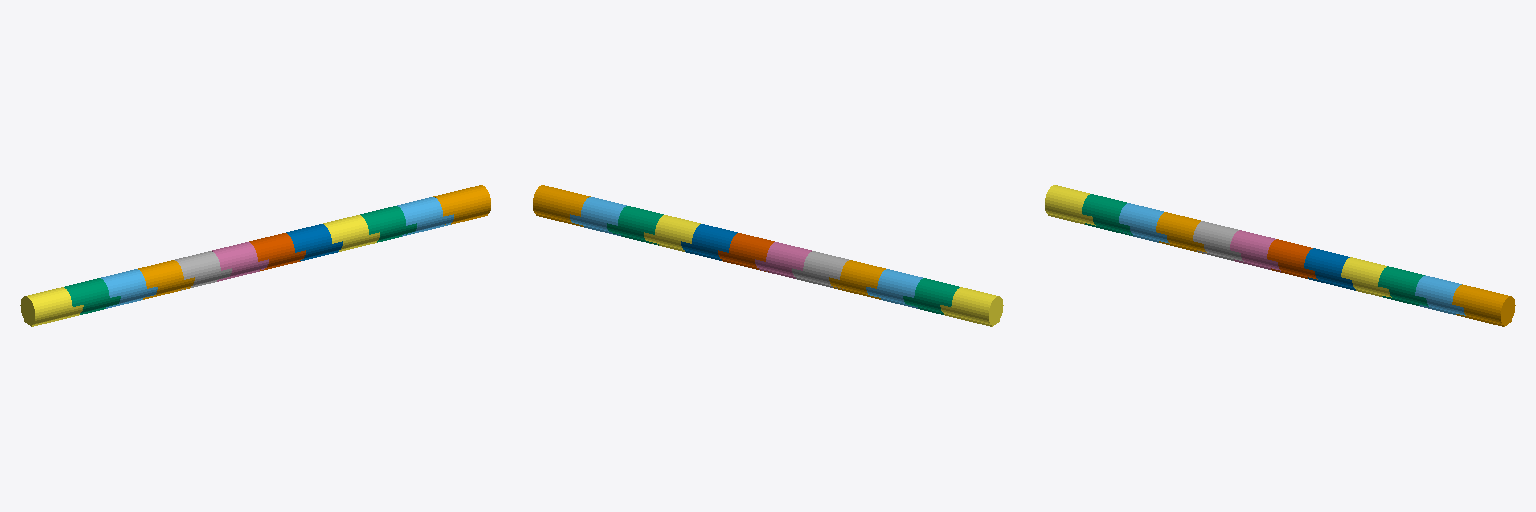
URDF robot description (kiro_robot):
<?xml version="1.0" ?>
<robot name="kiro_robot">
  <joint name="kiro_robot__joint1" type="revolute">
    <parent link="kiro_robot__head"/>
    <child link="kiro_robot__body1"/>
    <origin rpy="0   -1.57  0" xyz="-0.05     0       0.03496"/>
    <axis xyz="0  1  0"/>
    <limit effort="0.0" lower="-1.22173" upper="1.22173" velocity="8.16814"/>
  </joint>
  <joint name="kiro_robot__joint2" type="revolute">
    <parent link="kiro_robot__body1"/>
    <child link="kiro_robot__body2"/>
    <origin rpy="0  0  0" xyz="-8.00000000e-05   0.00000000e+00   1.00000000e-01"/>
    <axis xyz="1.00000000e+00   0.00000000e+00   7.90000000e-04"/>
    <limit effort="0.0" lower="-1.22173" upper="1.22173" velocity="8.16814"/>
  </joint>
  <joint name="kiro_robot__joint3" type="revolute">
    <parent link="kiro_robot__body2"/>
    <child link="kiro_robot__body3"/>
    <origin rpy="0  0  0" xyz="-8.00000000e-05   0.00000000e+00   1.00000000e-01"/>
    <axis xyz="0  1  0"/>
    <limit effort="0.0" lower="-1.22173" upper="1.22173" velocity="8.16814"/>
  </joint>
  <joint name="kiro_robot__joint4" type="revolute">
    <parent link="kiro_robot__body3"/>
    <child link="kiro_robot__body4"/>
    <origin rpy="0  0  0" xyz="-8.00000000e-05   0.00000000e+00   1.00000000e-01"/>
    <axis xyz="1.00000000e+00   0.00000000e+00   7.90000000e-04"/>
    <limit effort="0.0" lower="-1.22173" upper="1.22173" velocity="8.16814"/>
  </joint>
  <joint name="kiro_robot__joint5" type="revolute">
    <parent link="kiro_robot__body4"/>
    <child link="kiro_robot__body5"/>
    <origin rpy="0  0  0" xyz="-8.00000000e-05   0.00000000e+00   1.00000000e-01"/>
    <axis xyz="0  1  0"/>
    <limit effort="0.0" lower="-1.22173" upper="1.22173" velocity="8.16814"/>
  </joint>
  <joint name="kiro_robot__joint6" type="revolute">
    <parent link="kiro_robot__body5"/>
    <child link="kiro_robot__body6"/>
    <origin rpy="0  0  0" xyz="-8.00000000e-05   0.00000000e+00   1.00000000e-01"/>
    <axis xyz="1.00000000e+00   0.00000000e+00   7.90000000e-04"/>
    <limit effort="0.0" lower="-1.22173" upper="1.22173" velocity="8.16814"/>
  </joint>
  <joint name="kiro_robot__joint7" type="revolute">
    <parent link="kiro_robot__body6"/>
    <child link="kiro_robot__body7"/>
    <origin rpy="0  0  0" xyz="-8.00000000e-05   0.00000000e+00   1.00000000e-01"/>
    <axis xyz="0  1  0"/>
    <limit effort="0.0" lower="-1.22173" upper="1.22173" velocity="8.16814"/>
  </joint>
  <joint name="kiro_robot__joint8" type="revolute">
    <parent link="kiro_robot__body7"/>
    <child link="kiro_robot__body8"/>
    <origin rpy="0  0  0" xyz="-8.00000000e-05   0.00000000e+00   1.00000000e-01"/>
    <axis xyz="1.00000000e+00   0.00000000e+00   7.90000000e-04"/>
    <limit effort="0.0" lower="-1.22173" upper="1.22173" velocity="8.16814"/>
  </joint>
  <joint name="kiro_robot__joint9" type="revolute">
    <parent link="kiro_robot__body8"/>
    <child link="kiro_robot__body9"/>
    <origin rpy="0  0  0" xyz="-8.00000000e-05   0.00000000e+00   1.00000000e-01"/>
    <axis xyz="0  1  0"/>
    <limit effort="0.0" lower="-1.22173" upper="1.22173" velocity="8.16814"/>
  </joint>
  <joint name="kiro_robot__joint10" type="revolute">
    <parent link="kiro_robot__body9"/>
    <child link="kiro_robot__body10"/>
    <origin rpy="0  0  0" xyz="-8.00000000e-05   0.00000000e+00   1.00000000e-01"/>
    <axis xyz="0  1  0"/>
    <limit effort="0.0" lower="-1.22173" upper="1.22173" velocity="8.16814"/>
  </joint>
  <joint name="kiro_robot__joint11" type="revolute">
    <parent link="kiro_robot__body10"/>
    <child link="kiro_robot__tail"/>
    <origin rpy="0  0  0" xyz="-8.00000000e-05   0.00000000e+00   1.00000000e-01"/>
    <axis xyz="0  1  0"/>
    <limit effort="0.0" lower="-1.22173" upper="1.22173" velocity="8.16814"/>
  </joint>
  <link name="kiro_robot__head">
    <inertial>
      <mass value="0"/>
      <origin rpy="0  0  0" xyz="0  0  0"/>
      <inertia ixx="0" ixy="0" ixz="0" iyy="0" iyz="0" izz="0"/>
    </inertial>
    <collision name="kiro_robot__head_collision">
      <origin rpy="0   -1.57  0" xyz="0.025    0       0.03497"/>
      <geometry>
        <cylinder length=".08" radius=".035"/>
      </geometry>
    </collision>
    <collision name="kiro_robot__head_pad_collision">
      <origin rpy="0   -1.57  0" xyz="0.02498  0       0.00997"/>
      <geometry>
        <box size="0.02 0.035 0.08"/>
      </geometry>
    </collision>
    <visual name="kiro_robot__head_visual">
      <origin rpy="0   -1.57  0" xyz="0     0     0.035"/>
      <geometry>
        <cylinder length=".13" radius=".035"/>
      </geometry>
    </visual>
    <visual name="kiro_robot__head_pad_visual">
      <origin rpy="0   -1.57  0" xyz="-2.00000000e-05   0.00000000e+00   1.00000000e-02"/>
      <geometry>
        <box size="0.02 0.035 0.13"/>
      </geometry>
    </visual>
  </link>
  <link name="kiro_robot__body1">
    <inertial>
      <mass value="0"/>
      <origin rpy="0  0  0" xyz="0  0  0"/>
      <inertia ixx="0" ixy="0" ixz="0" iyy="0" iyz="0" izz="0"/>
    </inertial>
    <collision name="kiro_robot__body1_collision">
      <origin rpy="0  0  0" xyz="0     0     0.025"/>
      <geometry>
        <cylinder length=".08" radius=".035"/>
      </geometry>
    </collision>
    <collision name="kiro_robot__body1_pad_collision">
      <origin rpy="0  0  0" xyz="-0.025  0     0.025"/>
      <geometry>
        <box size="0.02 0.035 0.08"/>
      </geometry>
    </collision>
    <visual name="kiro_robot__body1_visual">
      <origin rpy="0  0  0" xyz="0    0    0.05"/>
      <geometry>
        <cylinder length=".13" radius=".035"/>
      </geometry>
    </visual>
    <visual name="kiro_robot__body1_pad_visual">
      <origin rpy="0  0  0" xyz="-0.025  0     0.05"/>
      <geometry>
        <box size="0.02 0.035 0.13"/>
      </geometry>
    </visual>
  </link>
  <link name="kiro_robot__body2">
    <inertial>
      <mass value="0"/>
      <origin rpy="0  0  0" xyz="0  0  0"/>
      <inertia ixx="0" ixy="0" ixz="0" iyy="0" iyz="0" izz="0"/>
    </inertial>
    <collision name="kiro_robot__body2_collision">
      <origin rpy="0  0  0" xyz="0     0     0.025"/>
      <geometry>
        <cylinder length=".08" radius=".035"/>
      </geometry>
    </collision>
    <collision name="kiro_robot__body2_pad_collision">
      <origin rpy="0  0  0" xyz="-0.025  0     0.025"/>
      <geometry>
        <box size="0.02 0.035 0.08"/>
      </geometry>
    </collision>
    <visual name="kiro_robot__body2_visual">
      <origin rpy="0  0  0" xyz="0    0    0.05"/>
      <geometry>
        <cylinder length=".13" radius=".035"/>
      </geometry>
    </visual>
    <visual name="kiro_robot__body2_pad_visual">
      <origin rpy="0  0  0" xyz="-0.025  0     0.05"/>
      <geometry>
        <box size="0.02 0.035 0.13"/>
      </geometry>
    </visual>
  </link>
  <link name="kiro_robot__body3">
    <inertial>
      <mass value="0"/>
      <origin rpy="0  0  0" xyz="0  0  0"/>
      <inertia ixx="0" ixy="0" ixz="0" iyy="0" iyz="0" izz="0"/>
    </inertial>
    <collision name="kiro_robot__body3_collision">
      <origin rpy="0  0  0" xyz="0     0     0.025"/>
      <geometry>
        <cylinder length=".08" radius=".035"/>
      </geometry>
    </collision>
    <collision name="kiro_robot__body3_pad_collision">
      <origin rpy="0  0  0" xyz="-0.025  0     0.025"/>
      <geometry>
        <box size="0.02 0.035 0.08"/>
      </geometry>
    </collision>
    <visual name="kiro_robot__body3_visual">
      <origin rpy="0  0  0" xyz="0    0    0.05"/>
      <geometry>
        <cylinder length=".13" radius=".035"/>
      </geometry>
    </visual>
    <visual name="kiro_robot__body3_pad_visual">
      <origin rpy="0  0  0" xyz="-0.025  0     0.05"/>
      <geometry>
        <box size="0.02 0.035 0.13"/>
      </geometry>
    </visual>
  </link>
  <link name="kiro_robot__body4">
    <inertial>
      <mass value="0"/>
      <origin rpy="0  0  0" xyz="0  0  0"/>
      <inertia ixx="0" ixy="0" ixz="0" iyy="0" iyz="0" izz="0"/>
    </inertial>
    <collision name="kiro_robot__body4_collision">
      <origin rpy="0  0  0" xyz="0     0     0.025"/>
      <geometry>
        <cylinder length=".08" radius=".035"/>
      </geometry>
    </collision>
    <collision name="kiro_robot__body4_pad_collision">
      <origin rpy="0  0  0" xyz="-0.025  0     0.025"/>
      <geometry>
        <box size="0.02 0.035 0.08"/>
      </geometry>
    </collision>
    <visual name="kiro_robot__body4_visual">
      <origin rpy="0  0  0" xyz="0    0    0.05"/>
      <geometry>
        <cylinder length=".13" radius=".035"/>
      </geometry>
    </visual>
    <visual name="kiro_robot__body4_pad_visual">
      <origin rpy="0  0  0" xyz="-0.025  0     0.05"/>
      <geometry>
        <box size="0.02 0.035 0.13"/>
      </geometry>
    </visual>
  </link>
  <link name="kiro_robot__body5">
    <inertial>
      <mass value="0"/>
      <origin rpy="0  0  0" xyz="0  0  0"/>
      <inertia ixx="0" ixy="0" ixz="0" iyy="0" iyz="0" izz="0"/>
    </inertial>
    <collision name="kiro_robot__body5_collision">
      <origin rpy="0  0  0" xyz="0     0     0.025"/>
      <geometry>
        <cylinder length=".08" radius=".035"/>
      </geometry>
    </collision>
    <collision name="kiro_robot__body5_pad_collision">
      <origin rpy="0  0  0" xyz="-0.025  0     0.025"/>
      <geometry>
        <box size="0.02 0.035 0.08"/>
      </geometry>
    </collision>
    <visual name="kiro_robot__body5_visual">
      <origin rpy="0  0  0" xyz="0    0    0.05"/>
      <geometry>
        <cylinder length=".13" radius=".035"/>
      </geometry>
    </visual>
    <visual name="kiro_robot__body5_pad_visual">
      <origin rpy="0  0  0" xyz="-0.025  0     0.05"/>
      <geometry>
        <box size="0.02 0.035 0.13"/>
      </geometry>
    </visual>
  </link>
  <link name="kiro_robot__body6">
    <inertial>
      <mass value="0"/>
      <origin rpy="0  0  0" xyz="0  0  0"/>
      <inertia ixx="0" ixy="0" ixz="0" iyy="0" iyz="0" izz="0"/>
    </inertial>
    <collision name="kiro_robot__body6_collision">
      <origin rpy="0  0  0" xyz="0     0     0.025"/>
      <geometry>
        <cylinder length=".08" radius=".035"/>
      </geometry>
    </collision>
    <collision name="kiro_robot__body6_pad_collision">
      <origin rpy="0  0  0" xyz="-0.025  0     0.025"/>
      <geometry>
        <box size="0.02 0.035 0.08"/>
      </geometry>
    </collision>
    <visual name="kiro_robot__body6_visual">
      <origin rpy="0  0  0" xyz="0    0    0.05"/>
      <geometry>
        <cylinder length=".13" radius=".035"/>
      </geometry>
    </visual>
    <visual name="kiro_robot__body6_pad_visual">
      <origin rpy="0  0  0" xyz="-0.025  0     0.05"/>
      <geometry>
        <box size="0.02 0.035 0.13"/>
      </geometry>
    </visual>
  </link>
  <link name="kiro_robot__body7">
    <inertial>
      <mass value="0"/>
      <origin rpy="0  0  0" xyz="0  0  0"/>
      <inertia ixx="0" ixy="0" ixz="0" iyy="0" iyz="0" izz="0"/>
    </inertial>
    <collision name="kiro_robot__body7_collision">
      <origin rpy="0  0  0" xyz="0     0     0.025"/>
      <geometry>
        <cylinder length=".08" radius=".035"/>
      </geometry>
    </collision>
    <collision name="kiro_robot__body7_pad_collision">
      <origin rpy="0  0  0" xyz="-0.025  0     0.025"/>
      <geometry>
        <box size="0.02 0.035 0.08"/>
      </geometry>
    </collision>
    <visual name="kiro_robot__body7_visual">
      <origin rpy="0  0  0" xyz="0    0    0.05"/>
      <geometry>
        <cylinder length=".13" radius=".035"/>
      </geometry>
    </visual>
    <visual name="kiro_robot__body7_pad_visual">
      <origin rpy="0  0  0" xyz="-0.025  0     0.05"/>
      <geometry>
        <box size="0.02 0.035 0.13"/>
      </geometry>
    </visual>
  </link>
  <link name="kiro_robot__body8">
    <inertial>
      <mass value="0"/>
      <origin rpy="0  0  0" xyz="0  0  0"/>
      <inertia ixx="0" ixy="0" ixz="0" iyy="0" iyz="0" izz="0"/>
    </inertial>
    <collision name="kiro_robot__body8_collision">
      <origin rpy="0  0  0" xyz="0     0     0.025"/>
      <geometry>
        <cylinder length=".08" radius=".035"/>
      </geometry>
    </collision>
    <collision name="kiro_robot__body8_pad_collision">
      <origin rpy="0  0  0" xyz="-0.025  0     0.025"/>
      <geometry>
        <box size="0.02 0.035 0.08"/>
      </geometry>
    </collision>
    <visual name="kiro_robot__body8_visual">
      <origin rpy="0  0  0" xyz="0    0    0.05"/>
      <geometry>
        <cylinder length=".13" radius=".035"/>
      </geometry>
    </visual>
    <visual name="kiro_robot__body8_pad_visual">
      <origin rpy="0  0  0" xyz="-0.025  0     0.05"/>
      <geometry>
        <box size="0.02 0.035 0.13"/>
      </geometry>
    </visual>
  </link>
  <link name="kiro_robot__body9">
    <inertial>
      <mass value="0"/>
      <origin rpy="0  0  0" xyz="0  0  0"/>
      <inertia ixx="0" ixy="0" ixz="0" iyy="0" iyz="0" izz="0"/>
    </inertial>
    <collision name="kiro_robot__body9_collision">
      <origin rpy="0  0  0" xyz="0     0     0.025"/>
      <geometry>
        <cylinder length=".08" radius=".035"/>
      </geometry>
    </collision>
    <collision name="kiro_robot__body9_pad_collision">
      <origin rpy="0  0  0" xyz="-0.025  0     0.025"/>
      <geometry>
        <box size="0.02 0.035 0.08"/>
      </geometry>
    </collision>
    <visual name="kiro_robot__body9_visual">
      <origin rpy="0  0  0" xyz="0    0    0.05"/>
      <geometry>
        <cylinder length=".13" radius=".035"/>
      </geometry>
    </visual>
    <visual name="kiro_robot__body9_pad_visual">
      <origin rpy="0  0  0" xyz="-0.025  0     0.05"/>
      <geometry>
        <box size="0.02 0.035 0.13"/>
      </geometry>
    </visual>
  </link>
  <link name="kiro_robot__body10">
    <inertial>
      <mass value="0"/>
      <origin rpy="0  0  0" xyz="0  0  0"/>
      <inertia ixx="0" ixy="0" ixz="0" iyy="0" iyz="0" izz="0"/>
    </inertial>
    <collision name="kiro_robot__body10_collision">
      <origin rpy="0  0  0" xyz="0     0     0.025"/>
      <geometry>
        <cylinder length=".08" radius=".035"/>
      </geometry>
    </collision>
    <collision name="kiro_robot__body10_pad_collision">
      <origin rpy="0  0  0" xyz="-0.025  0     0.025"/>
      <geometry>
        <box size="0.02 0.035 0.08"/>
      </geometry>
    </collision>
    <visual name="kiro_robot__body10_visual">
      <origin rpy="0  0  0" xyz="0    0    0.05"/>
      <geometry>
        <cylinder length=".13" radius=".035"/>
      </geometry>
    </visual>
    <visual name="kiro_robot__body10_pad_visual">
      <origin rpy="0  0  0" xyz="-0.025  0     0.05"/>
      <geometry>
        <box size="0.02 0.035 0.13"/>
      </geometry>
    </visual>
  </link>
  <link name="kiro_robot__tail">
    <inertial>
      <mass value="0"/>
      <origin rpy="0  0  0" xyz="0  0  0"/>
      <inertia ixx="0" ixy="0" ixz="0" iyy="0" iyz="0" izz="0"/>
    </inertial>
    <collision name="kiro_robot__tail_collision">
      <origin rpy="0  0  0" xyz="0    0    0.05"/>
      <geometry>
        <cylinder length=".13" radius=".035"/>
      </geometry>
    </collision>
    <collision name="kiro_robot__tail_pad_collision">
      <origin rpy="0  0  0" xyz="-0.025  0     0.05"/>
      <geometry>
        <box size="0.02 0.035 0.13"/>
      </geometry>
    </collision>
    <visual name="kiro_robot__tail_visual">
      <origin rpy="0  0  0" xyz="0    0    0.05"/>
      <geometry>
        <cylinder length=".13" radius=".035"/>
      </geometry>
    </visual>
    <visual name="kiro_robot__tail_pad_visual">
      <origin rpy="0  0  0" xyz="-0.025  0     0.05"/>
      <geometry>
        <box size="0.02 0.035 0.13"/>
      </geometry>
    </visual>
  </link>
</robot>

--- Facts derived from the render (not from the file) ---
Views: 3 orthographic renders of the robot side by side, from view 1: azimuth 30°, elevation 25°; view 2: azimuth 150°, elevation 25°; view 3: azimuth 330°, elevation 25°.
Robot: kiro_robot — 12 links, 11 joints (11 revolute); root link kiro_robot__head; default pose: every joint at zero.
Links seen in each view (by area): view 1: kiro_robot__tail, kiro_robot__head, kiro_robot__body6, kiro_robot__body8, kiro_robot__body1, kiro_robot__body3, kiro_robot__body4, kiro_robot__body5, kiro_robot__body9, kiro_robot__body10, kiro_robot__body2, kiro_robot__body7; view 2: kiro_robot__tail, kiro_robot__head, kiro_robot__body8, kiro_robot__body2, kiro_robot__body7, kiro_robot__body5, kiro_robot__body4, kiro_robot__body9, kiro_robot__body6, kiro_robot__body1, kiro_robot__body10, kiro_robot__body3; view 3: kiro_robot__head, kiro_robot__tail, kiro_robot__body4, kiro_robot__body10, kiro_robot__body2, kiro_robot__body6, kiro_robot__body8, kiro_robot__body1, kiro_robot__body7, kiro_robot__body5, kiro_robot__body9, kiro_robot__body3.
Boxes of the visible links, <box> form: kiro_robot__tail: <box>20,287,83,326</box>; kiro_robot__head: <box>433,185,490,224</box>; kiro_robot__body6: <box>212,242,268,281</box>; kiro_robot__body8: <box>138,260,194,299</box>; kiro_robot__body1: <box>397,197,453,236</box>; kiro_robot__body3: <box>323,215,379,251</box>; kiro_robot__body4: <box>286,224,342,260</box>; kiro_robot__body5: <box>249,233,305,270</box>; kiro_robot__body9: <box>101,269,157,308</box>; kiro_robot__body10: <box>64,278,120,314</box>; kiro_robot__body2: <box>360,206,416,242</box>; kiro_robot__body7: <box>175,251,231,290</box>; kiro_robot__tail: <box>940,287,1003,326</box>; kiro_robot__head: <box>533,185,590,226</box>; kiro_robot__body8: <box>829,260,885,299</box>; kiro_robot__body2: <box>607,206,663,245</box>; kiro_robot__body7: <box>792,251,848,289</box>; kiro_robot__body5: <box>718,233,774,271</box>; kiro_robot__body4: <box>681,224,737,260</box>; kiro_robot__body9: <box>866,269,922,308</box>; kiro_robot__body6: <box>755,242,811,278</box>; kiro_robot__body1: <box>570,197,626,236</box>; kiro_robot__body10: <box>903,278,959,314</box>; kiro_robot__body3: <box>644,215,700,251</box>; kiro_robot__head: <box>1452,284,1515,326</box>; kiro_robot__tail: <box>1045,185,1095,225</box>; kiro_robot__body4: <box>1304,248,1355,290</box>; kiro_robot__body10: <box>1082,194,1132,235</box>; kiro_robot__body2: <box>1378,266,1428,306</box>; kiro_robot__body6: <box>1230,230,1280,272</box>; kiro_robot__body8: <box>1156,212,1206,253</box>; kiro_robot__body1: <box>1415,275,1465,316</box>; kiro_robot__body7: <box>1193,221,1243,263</box>; kiro_robot__body5: <box>1267,239,1317,279</box>; kiro_robot__body9: <box>1119,203,1169,243</box>; kiro_robot__body3: <box>1341,257,1391,297</box>.
Bounding box of the posed robot: 1.23 × 0.07 × 0.0701 m (x, y, z).
Geometry: primitives only (box / cylinder / sphere), no mesh files.